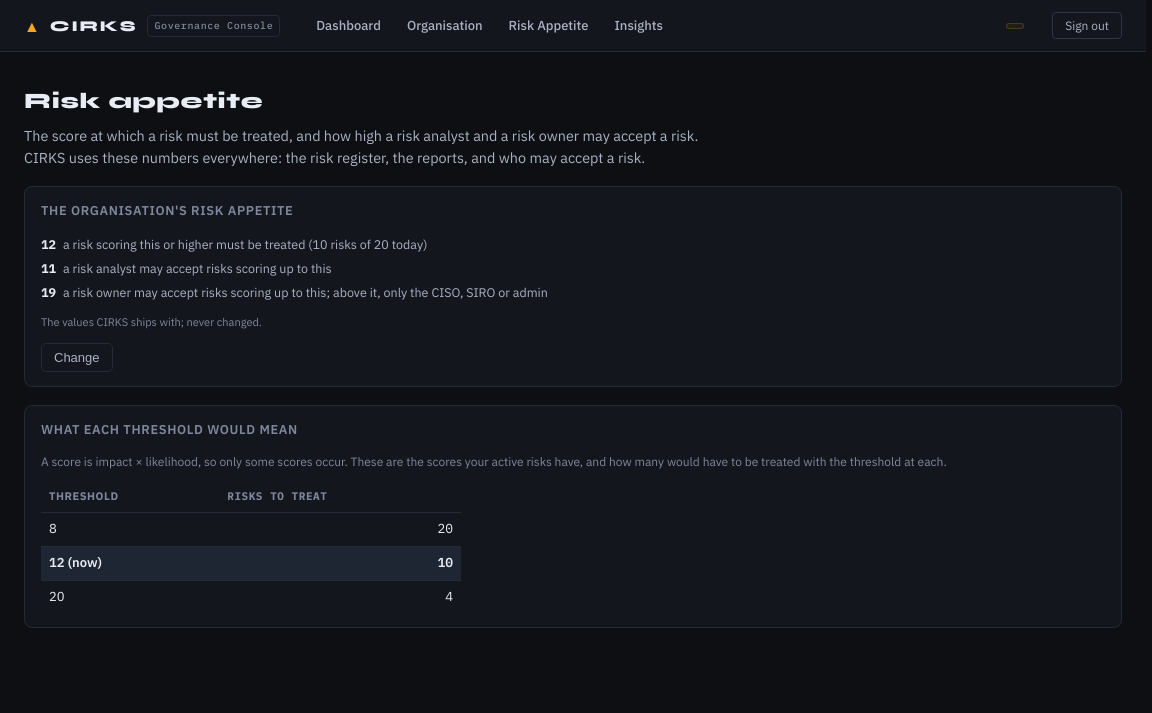
Scenario: Risk appetite › lists the risks named when the change is refused
This screenshot has width=1152, height=713.
Step 1. Click the button "Change" → {"x": 77, "y": 358}, box [41,344,112,372]
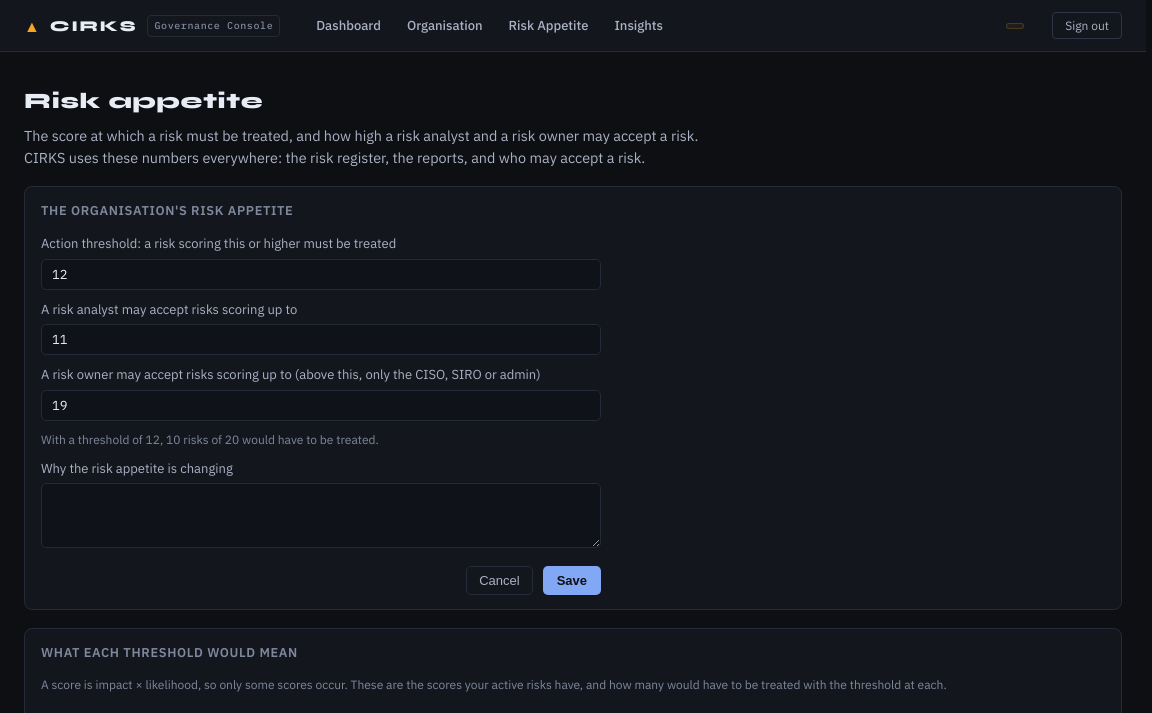
Step 2. Type "Board review" into the text box labelled "Why the risk appetite" → {"x": 321, "y": 516}, box [41,484,601,548]
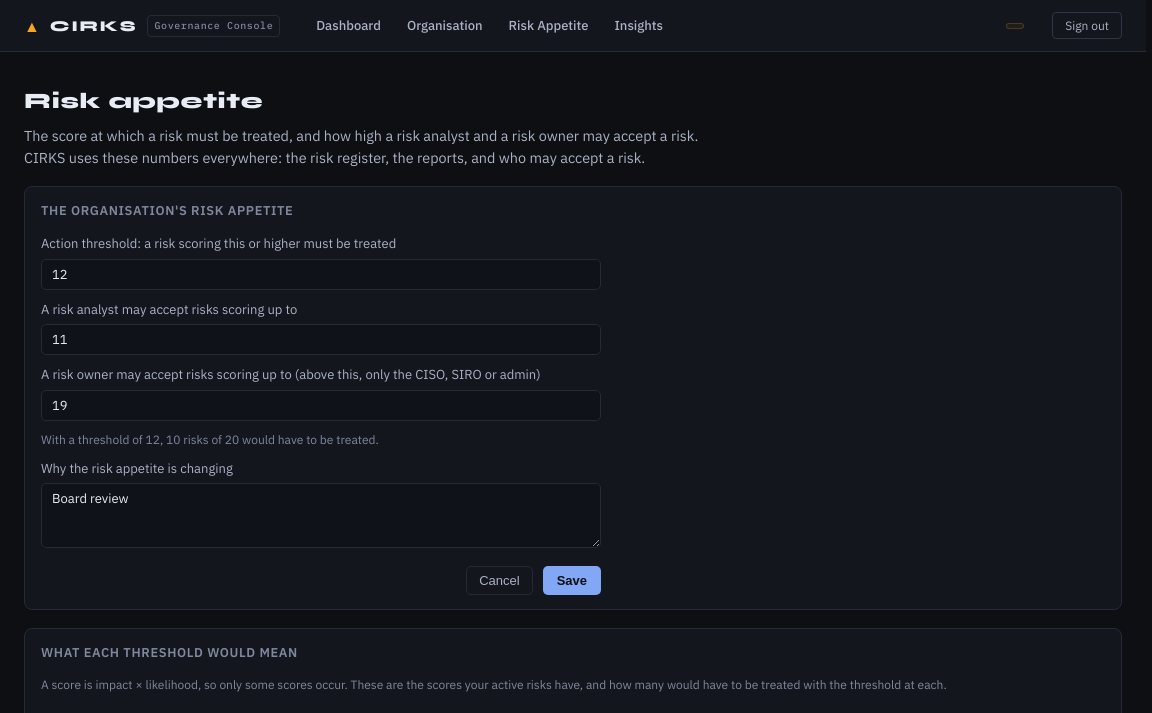
Step 3. Click the button "Save" → {"x": 572, "y": 581}, box [543,566,601,596]
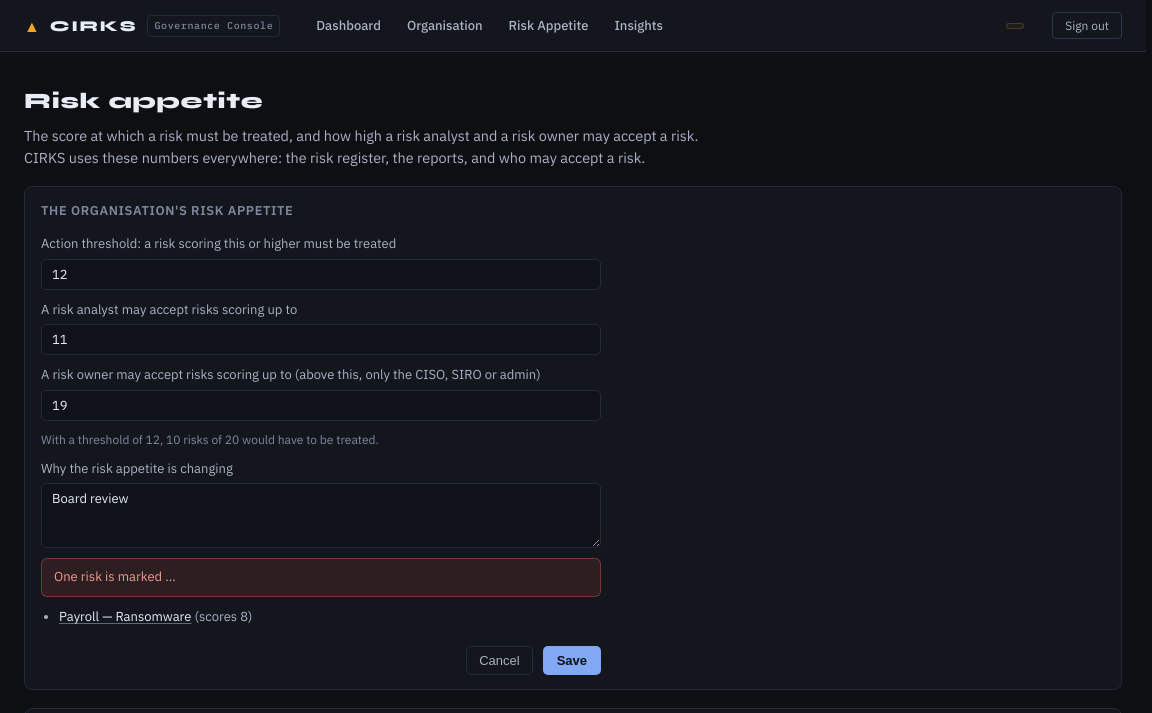
Expected: the link "Payroll — Ransomware" is shown, [59,608,192,625]
